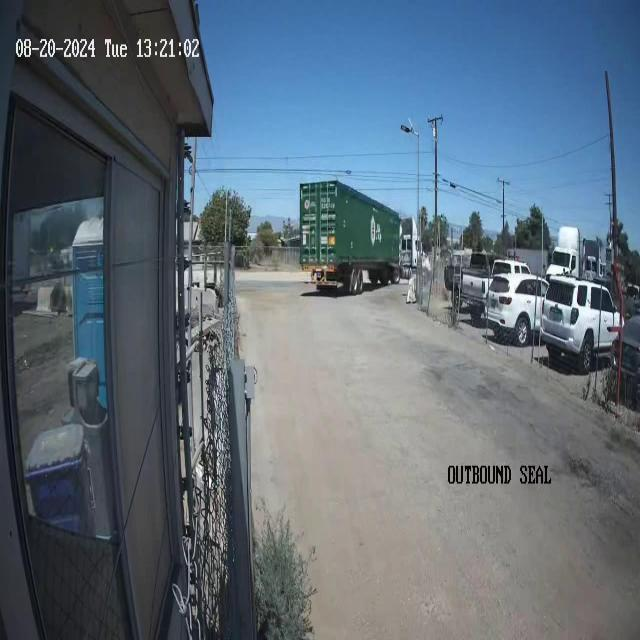TRUCK_OUT: (299, 179, 401, 295)
